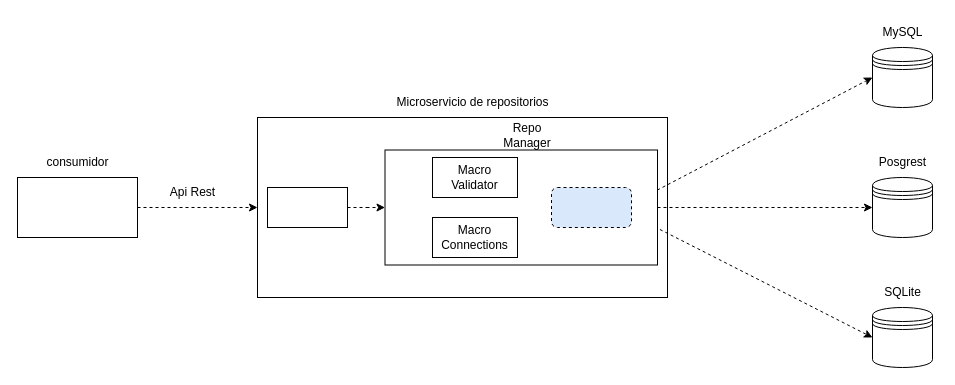
This 955x385 diagram has some shape labels left out. The centre of each missing label's shape, as x and y in pixels:
"Application" belongs at [307,207].
"Ecto" belongs at [591,207].
